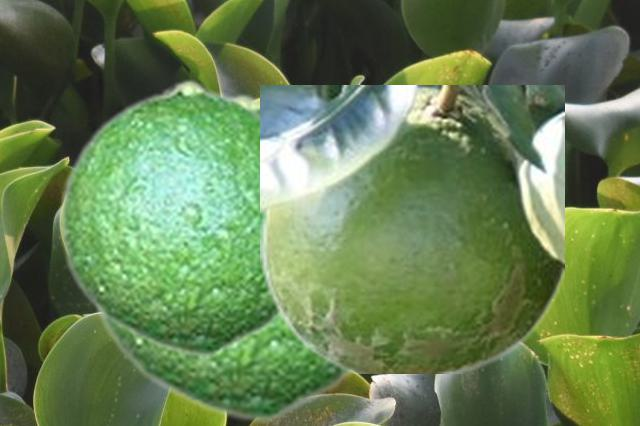dalandan: (88, 92, 358, 422), (260, 85, 563, 372), (56, 78, 280, 357)
